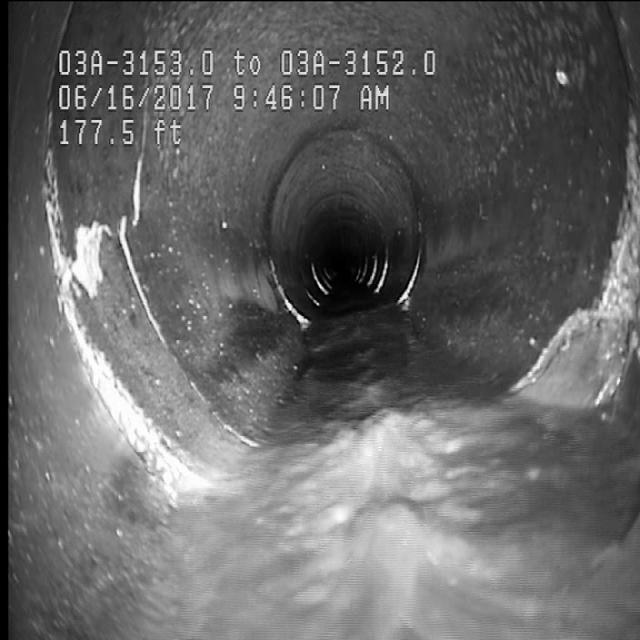Crack: (85, 170, 181, 362)
